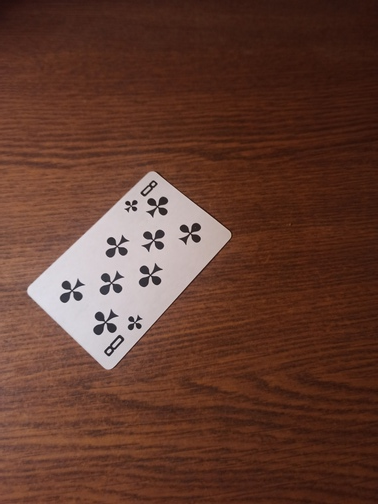eightclubs: (25, 169, 235, 369)
